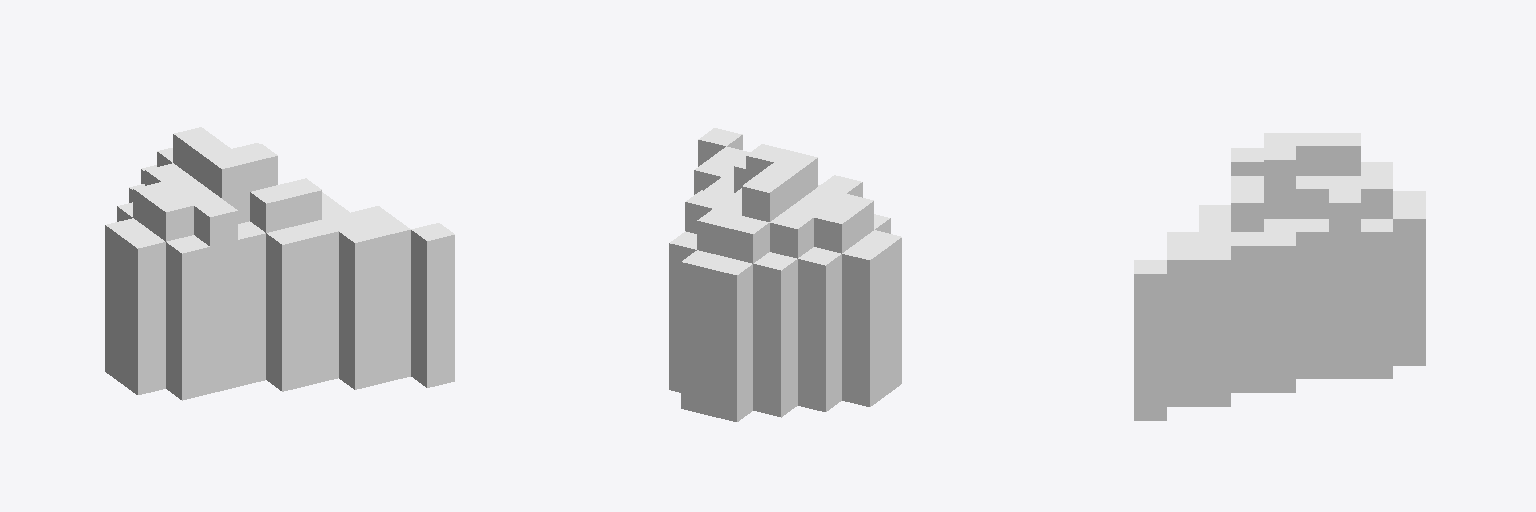
File: glue_strawberry_cake.obj
The picture shows the model from 3 angles: view 1: azimuth 30°, elevation 25°; view 2: azimuth 150°, elevation 25°; view 3: azimuth 270°, elevation 25°; orthographic projection.
Parts seen in each view (by area): view 1: object 1; view 2: object 1; view 3: object 1.
Boxes of the visible parts, box(x1,y1,x2,y2) form: object 1: box(105, 127, 454, 400); object 1: box(669, 128, 901, 421); object 1: box(1134, 133, 1425, 420).
Size of the model in its own units: 0.9 by 0.7 by 0.9.